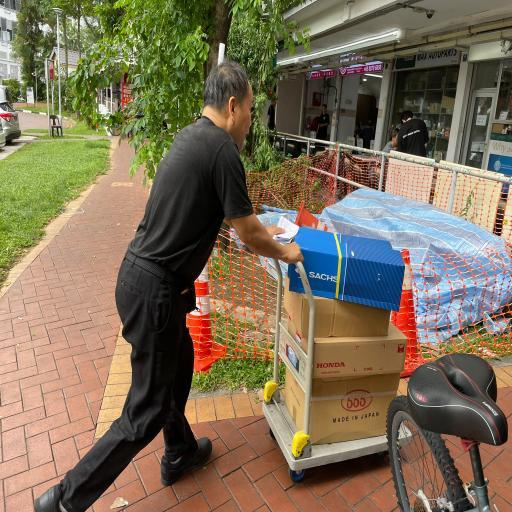person_right: (80, 57, 412, 498)
